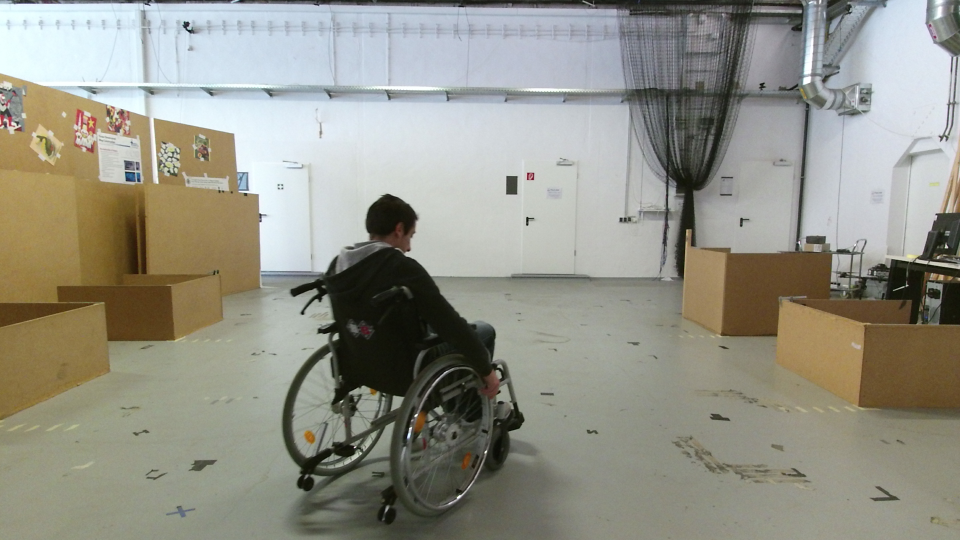wheelchair: (276, 194, 523, 528)
